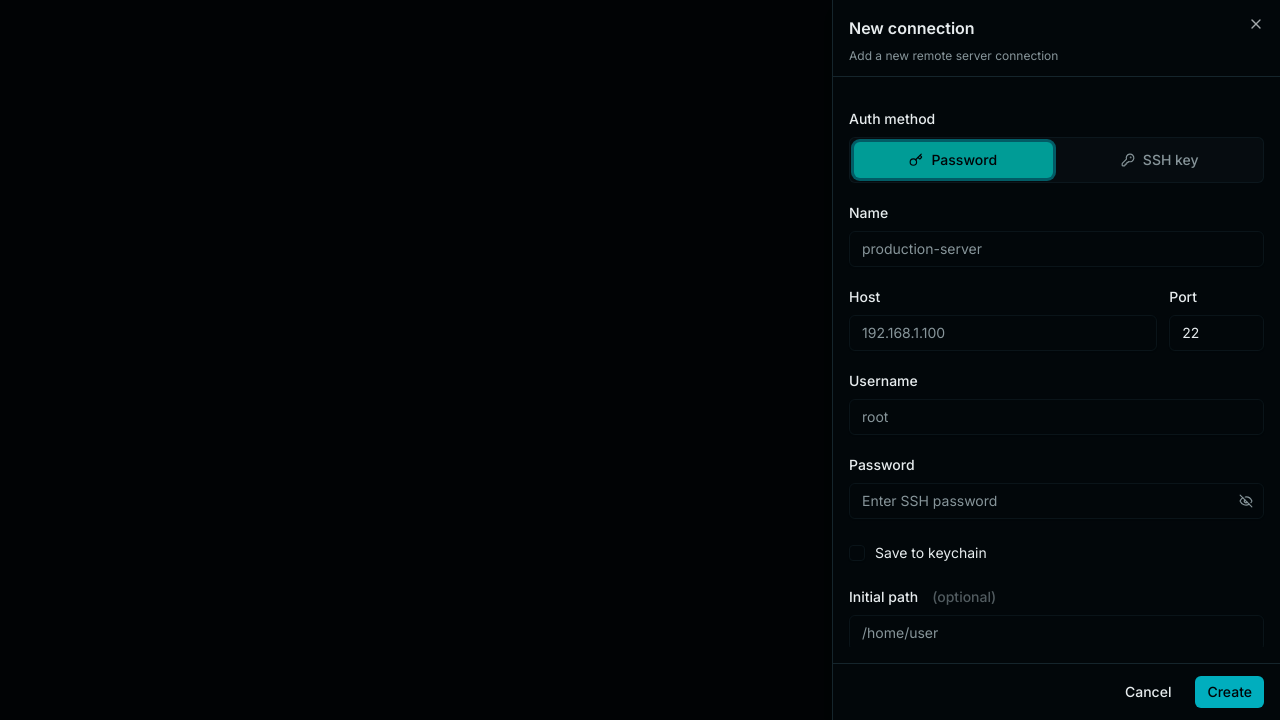
Scenario: ConnectionSheet › should show private key field when SSH key auth type is selected
Expected: the text "Private key" is not shown
// Click the "SSH key" radio to switch auth type
Step 1. Click the radio button labelled "SSH key" → [1160, 160], box x1=1060 y1=142 x2=1259 y2=178
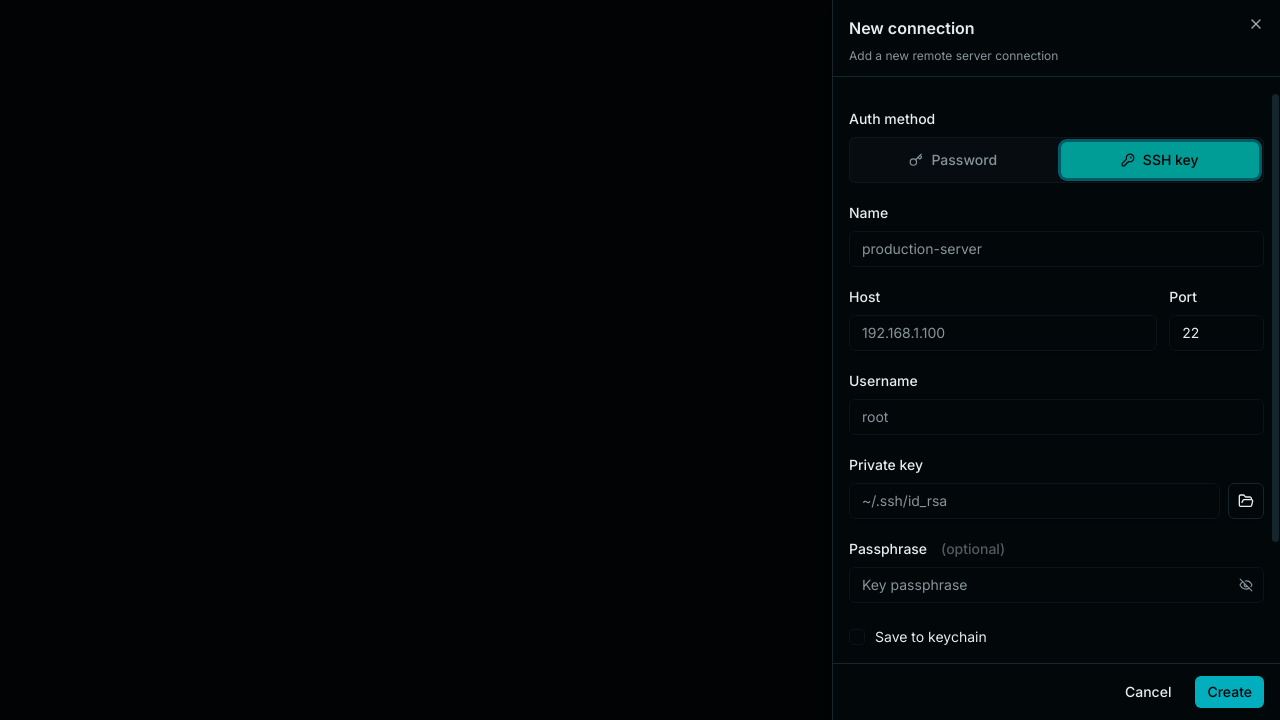
Result: the text "Private key" is shown at x1=849 y1=456 x2=923 y2=473
